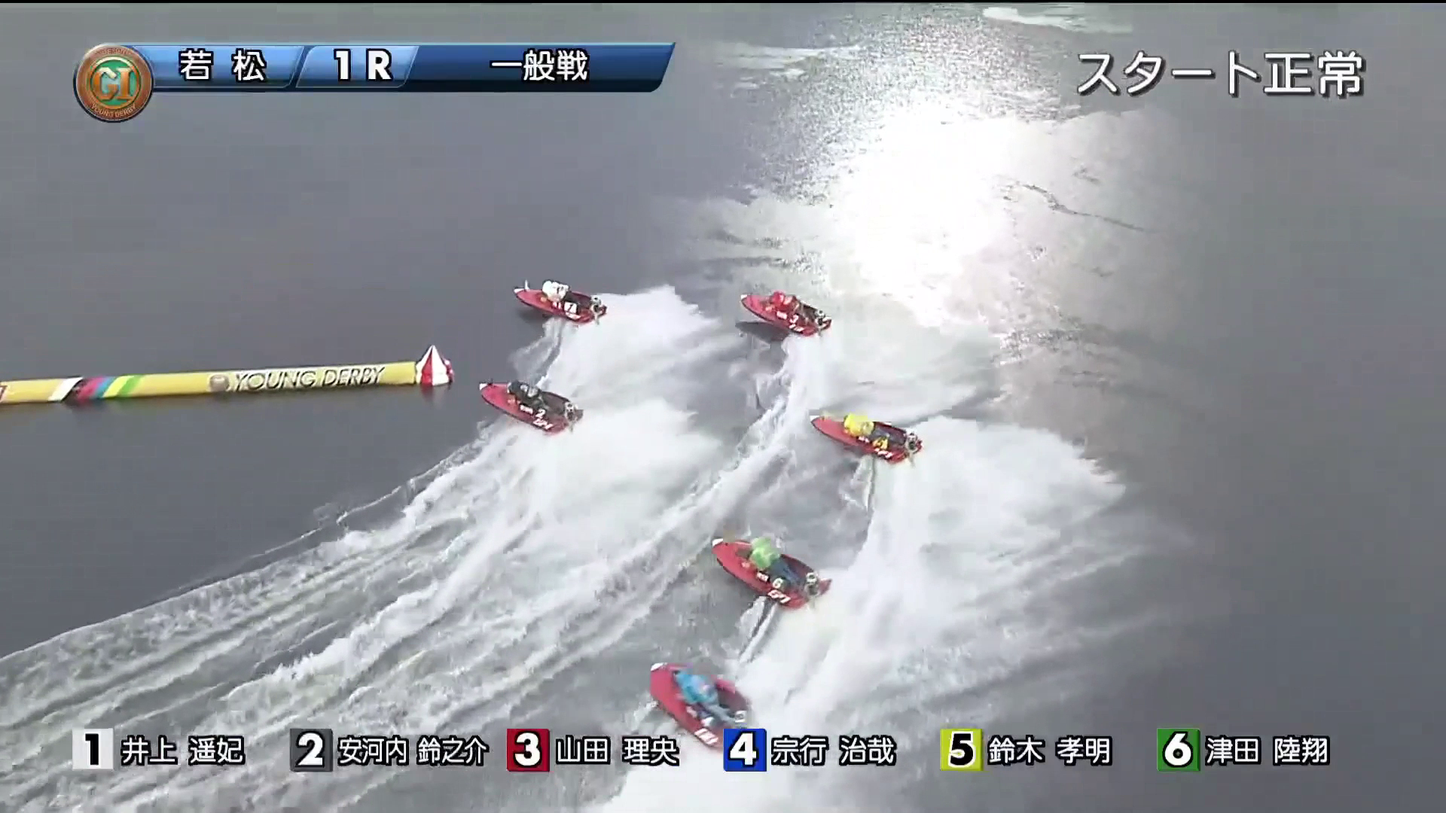１号艇: (497, 286, 567, 339)
２号艇: (447, 375, 575, 435)
３号艇: (745, 280, 843, 326)
４号艇: (701, 534, 835, 599)
５号艇: (654, 669, 777, 724)
６号艇: (819, 394, 919, 472)
